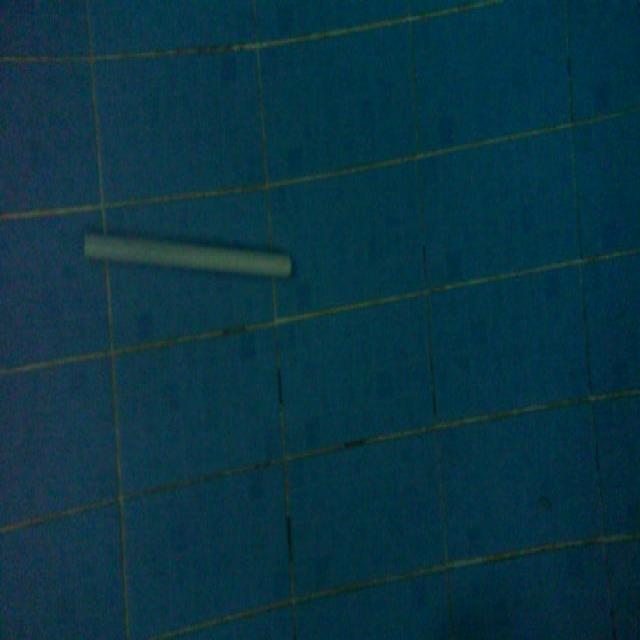Cube: (81, 222, 294, 284)
